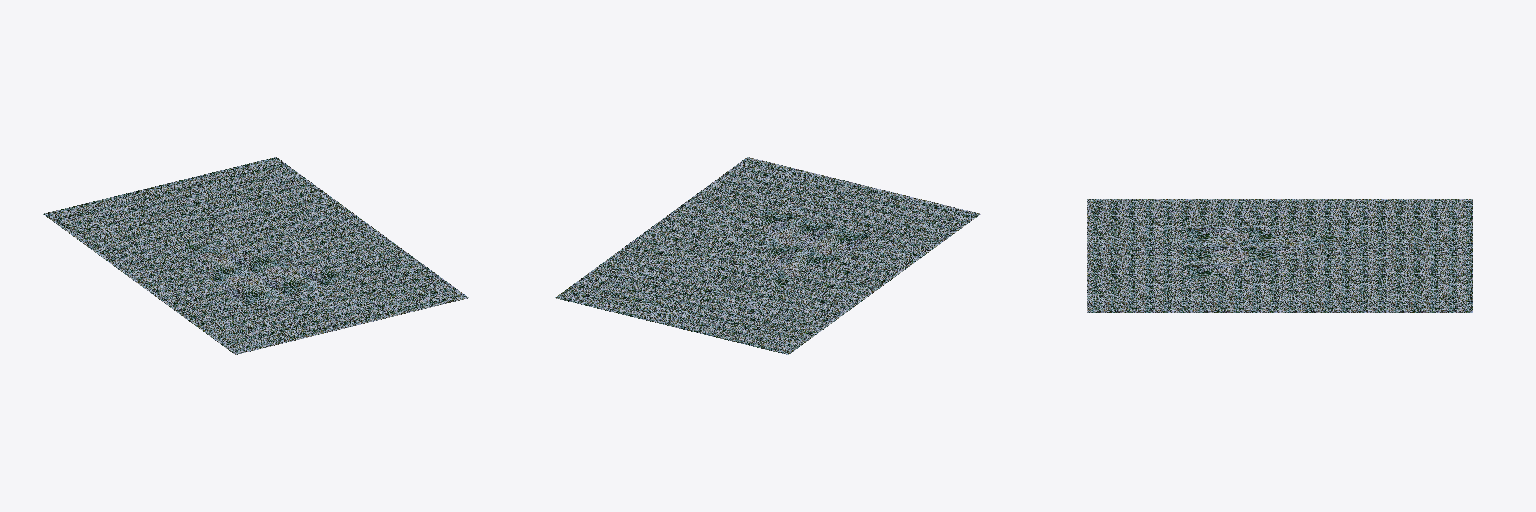
3 renders of one model, left to right at view 1: azimuth 30°, elevation 25°; view 2: azimuth 150°, elevation 25°; view 3: azimuth 270°, elevation 25°, orthographic.
Parts seen in each view (by area): view 1: pasto3; view 2: pasto3; view 3: pasto3.
Part boxes in pixels (bbox=[...]): pasto3: bbox=[43, 157, 468, 354]; pasto3: bbox=[555, 157, 980, 354]; pasto3: bbox=[1087, 199, 1472, 312].
Bounding box in the file's own units: 28 × 0.005 × 40.
2 materials, 1 textured.